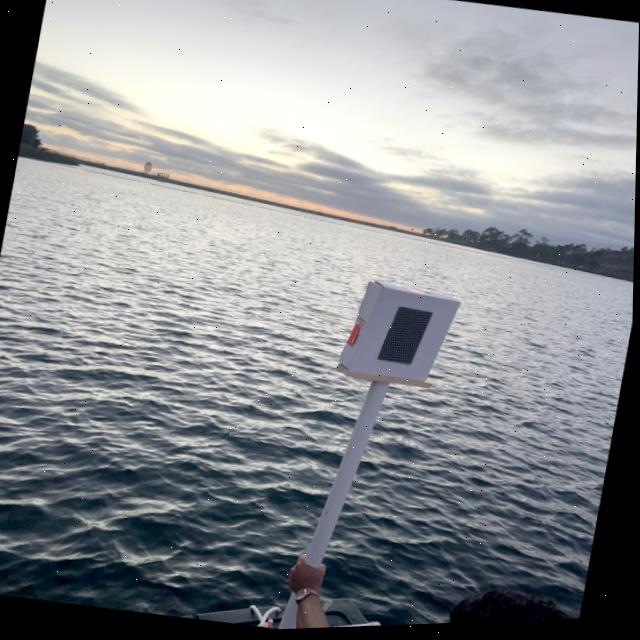led: (365, 289, 444, 389)
